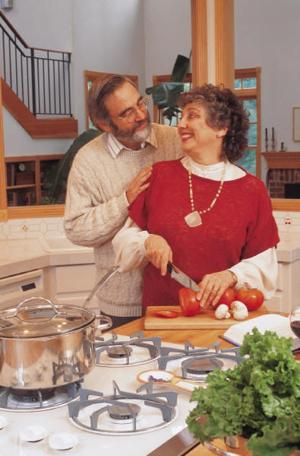person: (112, 84, 279, 318)
